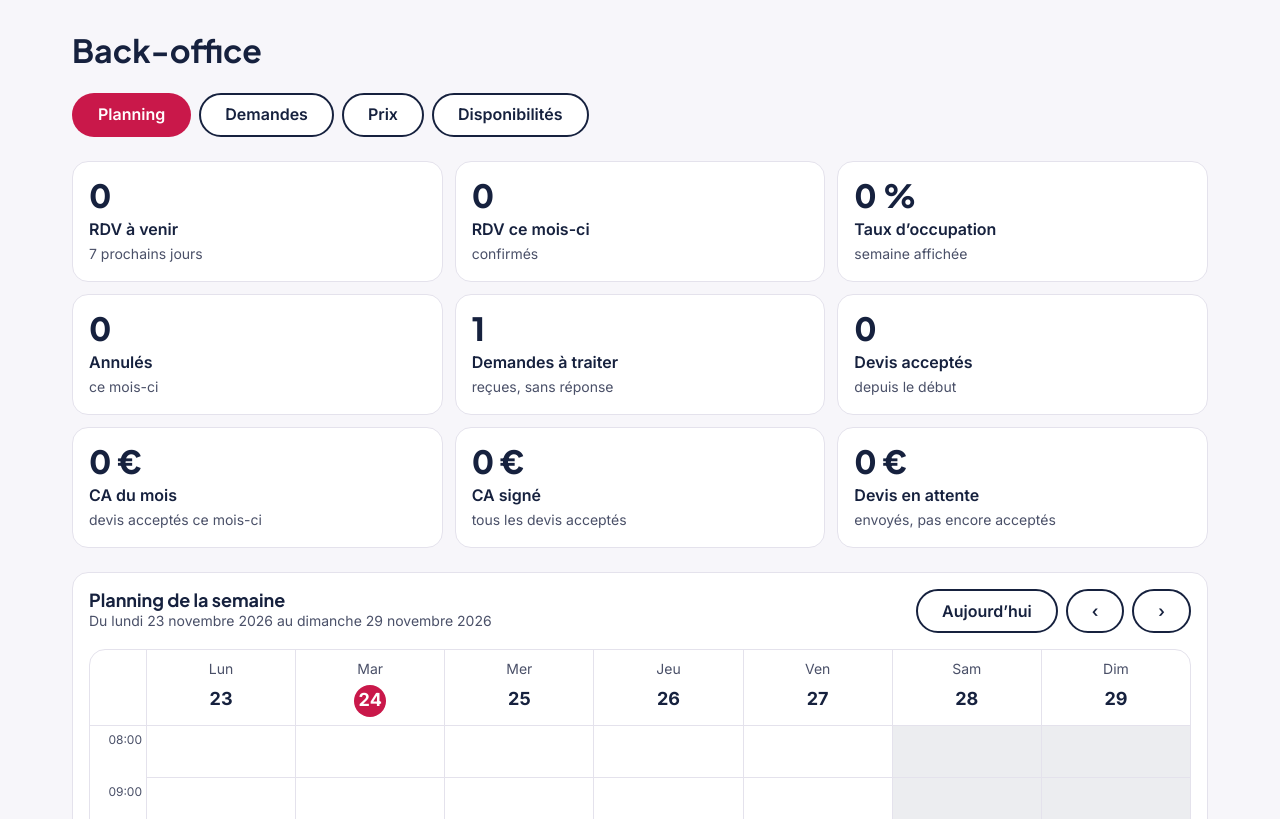
it: Back-office : devis › refuse une ligne incomplète ou un prix non entier
Click the button "Demandes" at (267, 115), box top-left (199, 93), bottom-right (334, 137)
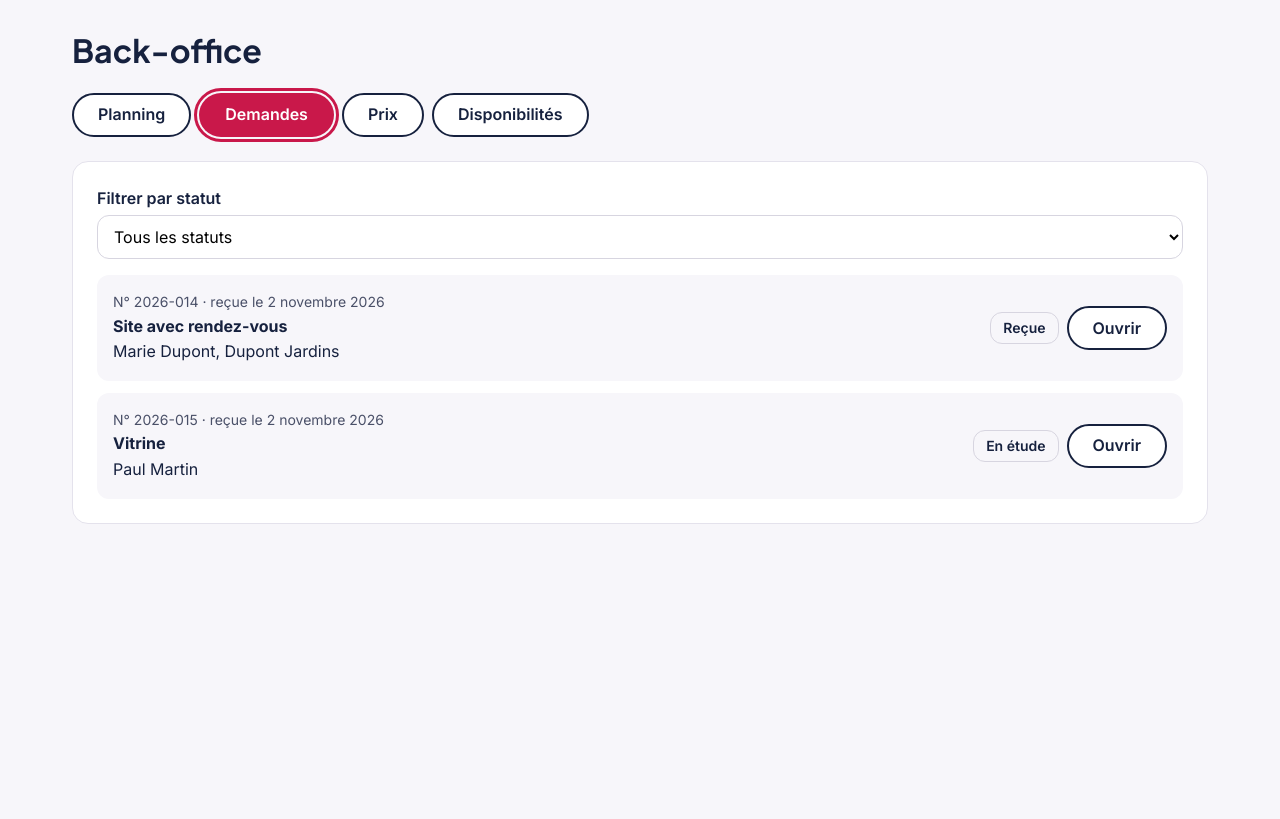
Click the button with aria-label "Ouvrir la demande 2026-014" at (1117, 328), box top-left (1066, 306), bottom-right (1167, 350)
(page scrolled)
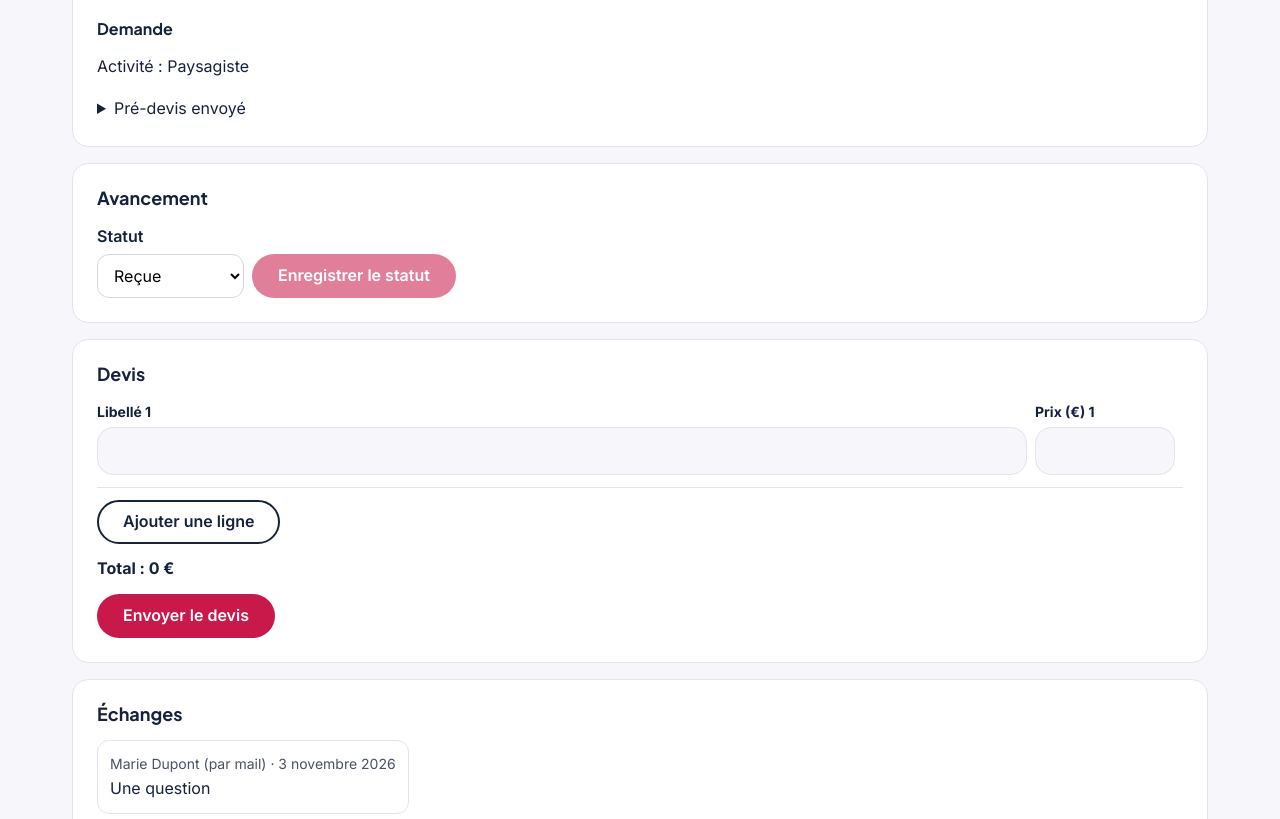
Type "Site" into the field labelled "Libellé 1" at (562, 451), box top-left (97, 427), bottom-right (1027, 475)
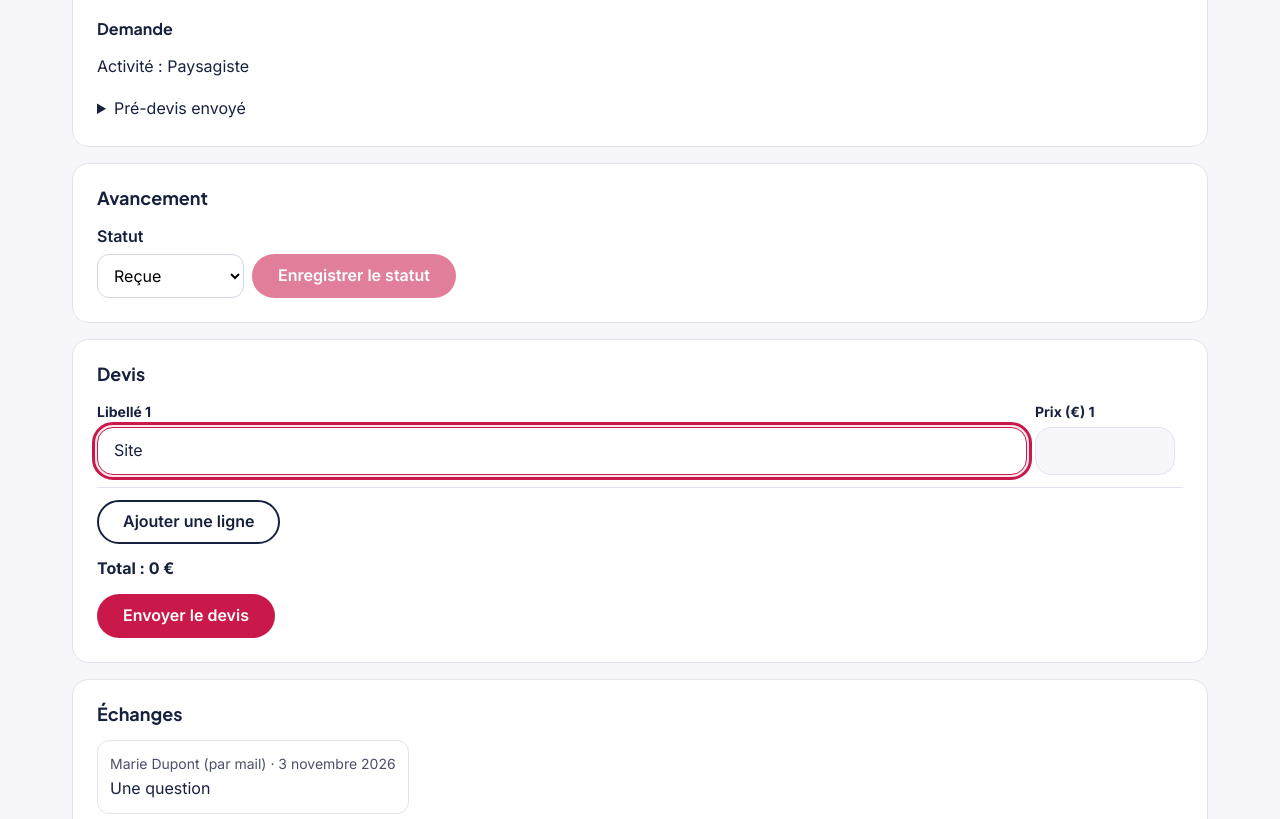
Type "98,5" into the field labelled "Prix (€) 1" at (1105, 451), box top-left (1035, 427), bottom-right (1175, 475)
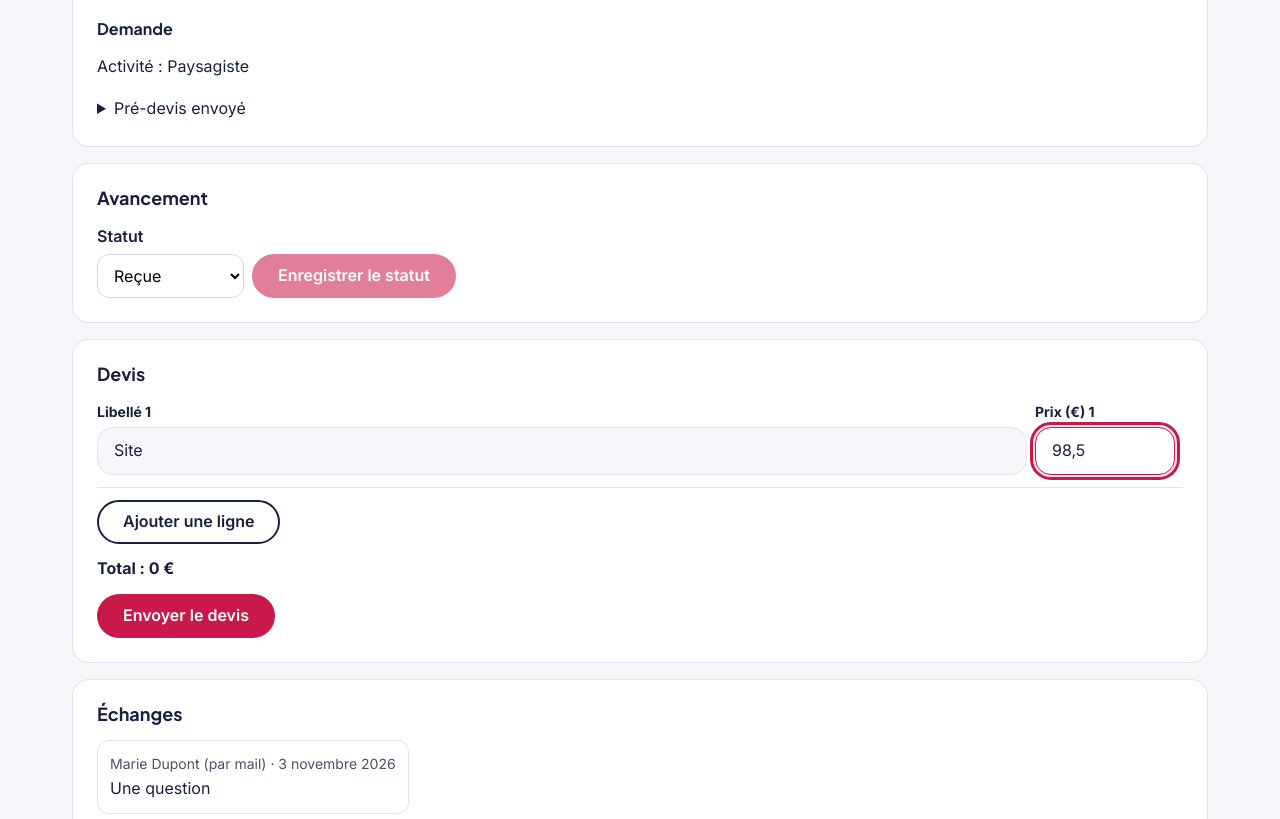
Click the button "Envoyer le devis" at (186, 616), box top-left (97, 594), bottom-right (275, 638)
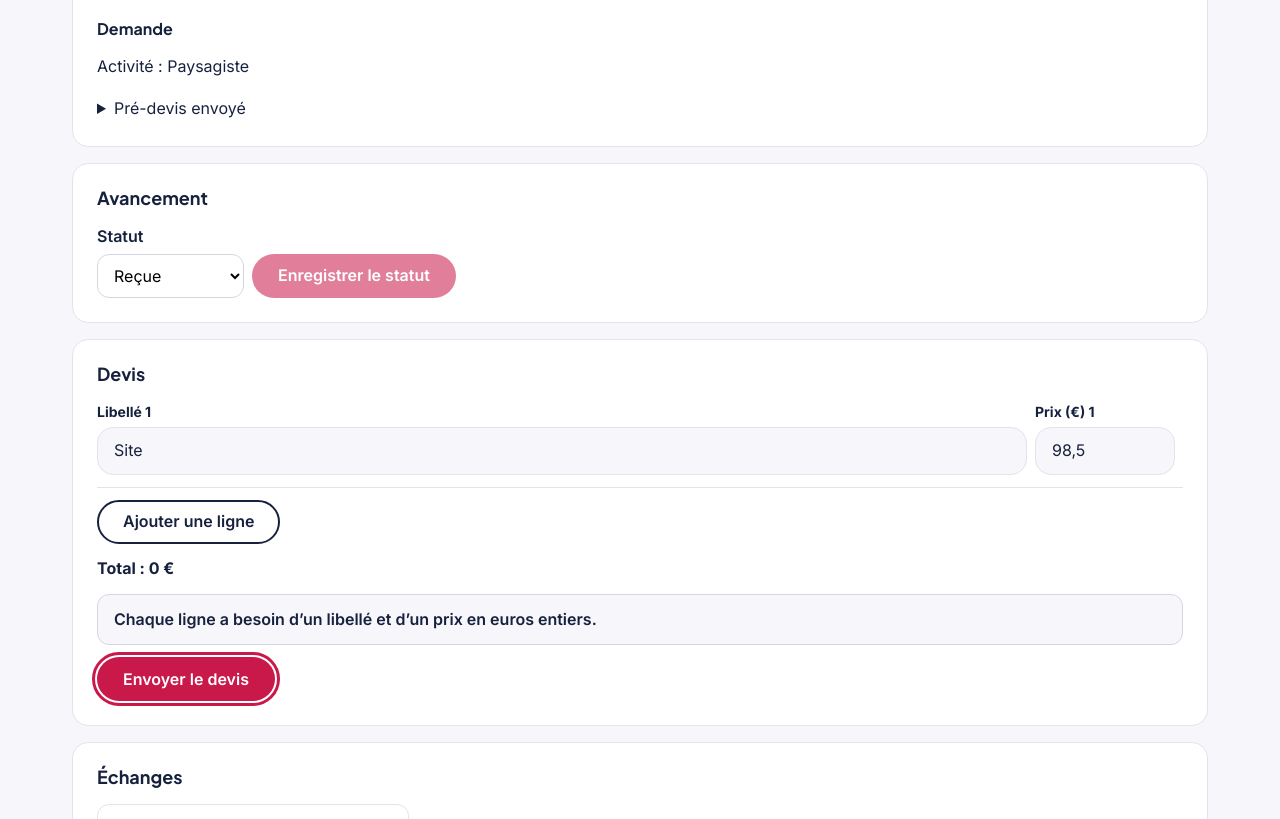
Result: the message shows "Chaque ligne" at top-left (114, 609), bottom-right (597, 629)
